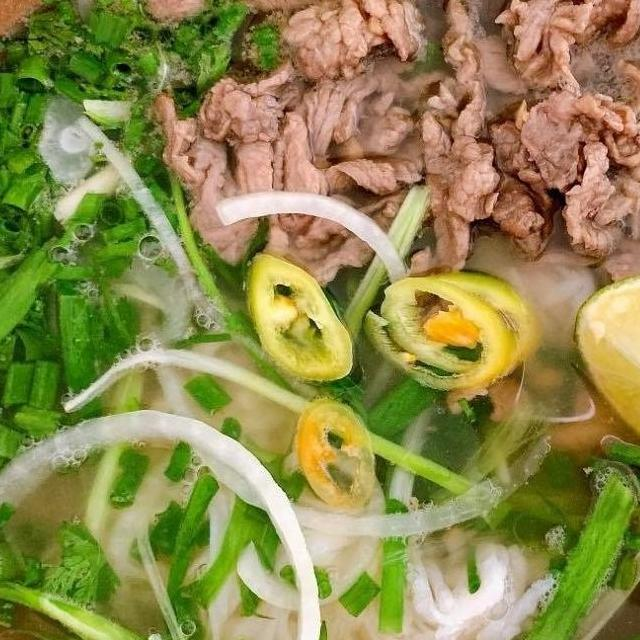banh pho: (178, 486, 570, 640)
pho bo: (0, 0, 640, 640)
thit bo: (264, 58, 433, 298), (144, 70, 308, 274), (411, 60, 552, 288), (499, 87, 640, 307), (490, 0, 640, 131), (276, 0, 442, 87), (138, 0, 437, 44)
